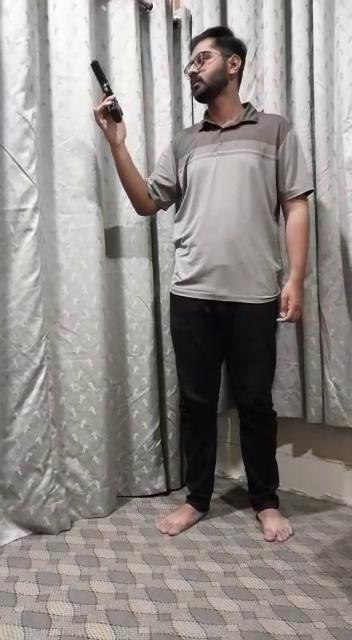criminal: (90, 22, 317, 548)
weapon: (92, 56, 126, 127)
